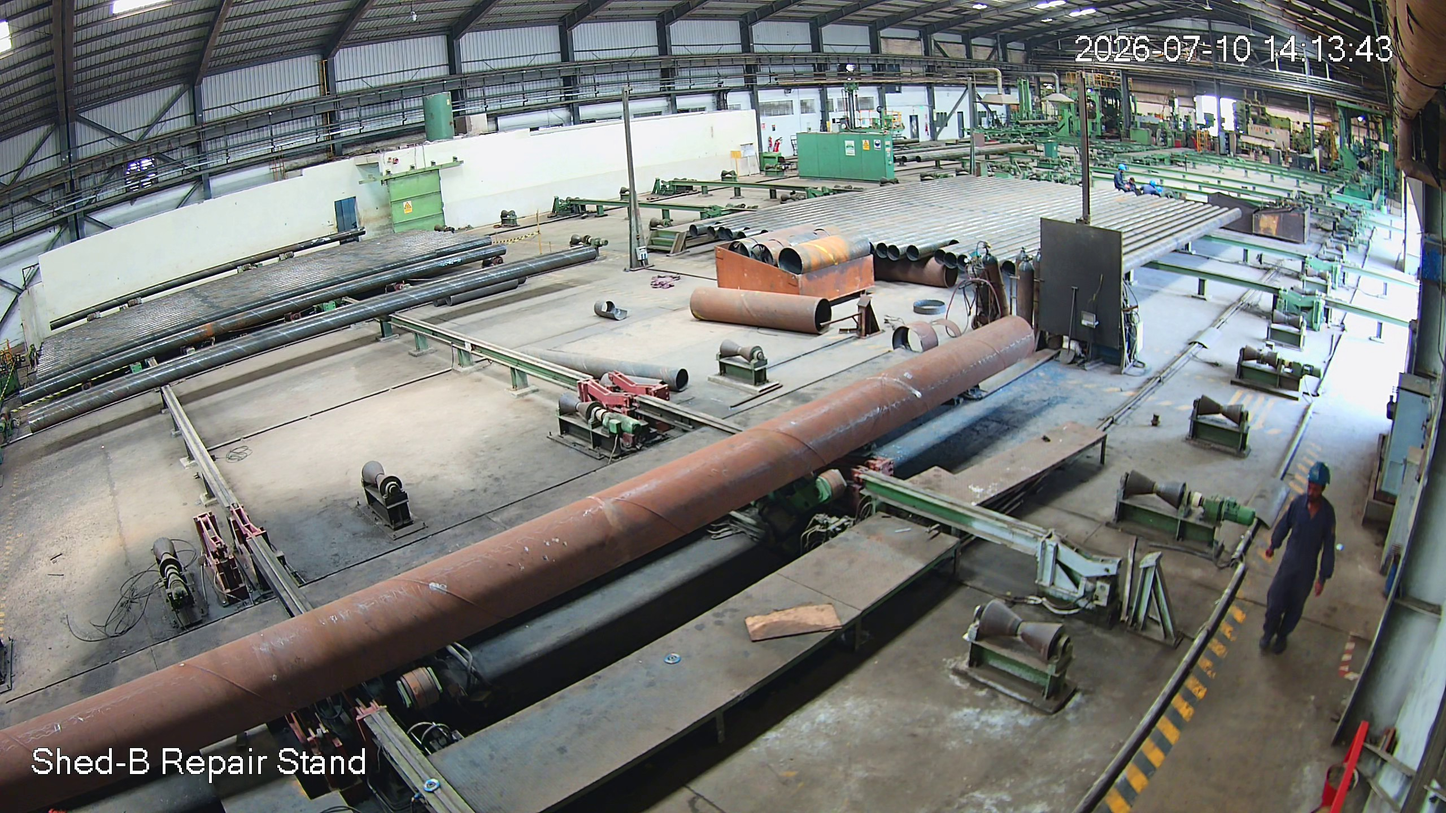Helmet: (1291, 446, 1336, 537)
Person: (1271, 458, 1340, 674)
